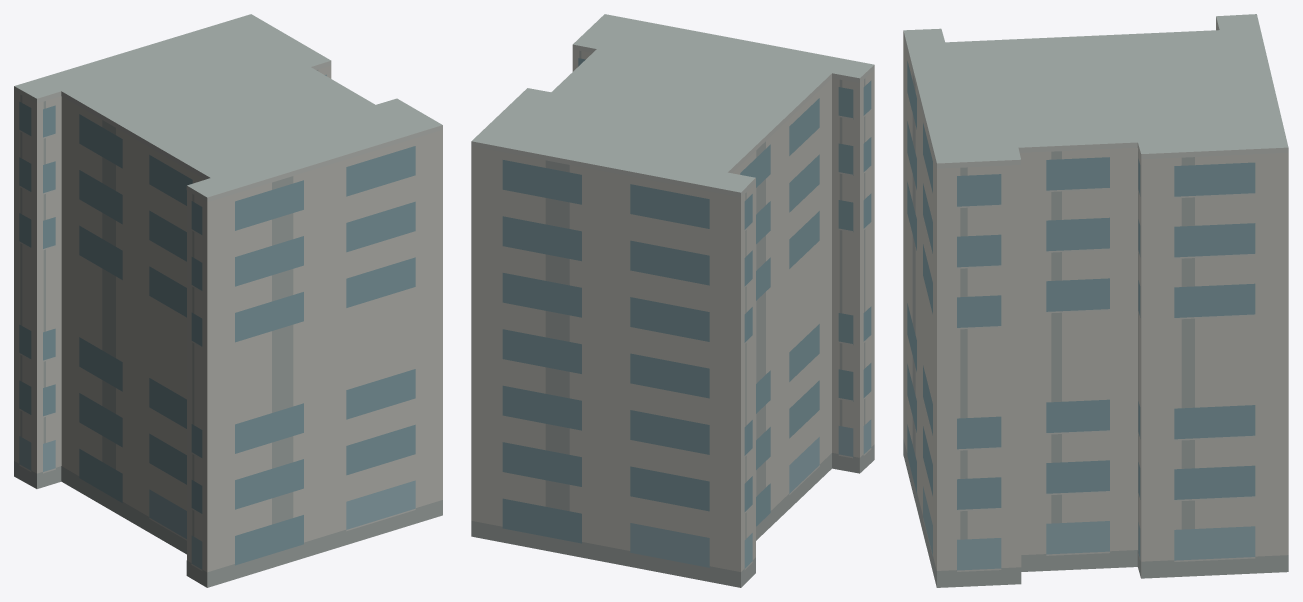
Rendered from survey-upis-32635302.glb.
The picture shows the model from 3 angles, left to right: view 1: azimuth 30°, elevation 25°; view 2: azimuth 150°, elevation 25°; view 3: azimuth 270°, elevation 25°; orthographic projection. The views are drawn at different scales.
Visible parts, largest first — view 1: survey-upis-32635302.tmp; view 2: survey-upis-32635302.tmp; view 3: survey-upis-32635302.tmp.
Part boxes in pixels (x1,y1,x2,y2): survey-upis-32635302.tmp: (14,14,442,587); survey-upis-32635302.tmp: (471,14,874,587); survey-upis-32635302.tmp: (903,14,1288,587).
Bounding box in the file's own units: 14.66 × 19.4 × 15.97.
